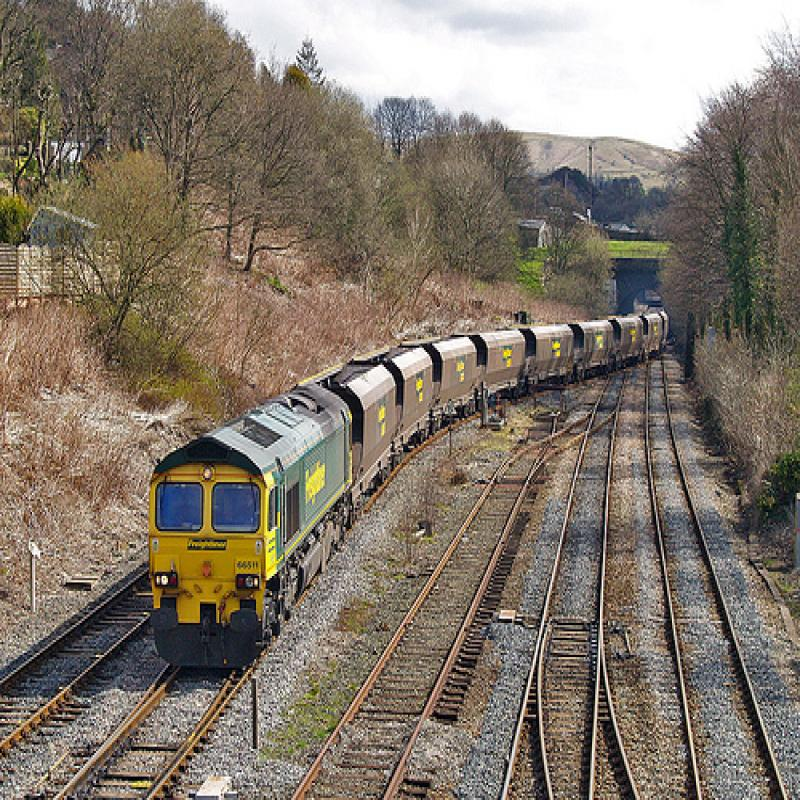train: (148, 304, 673, 673)
